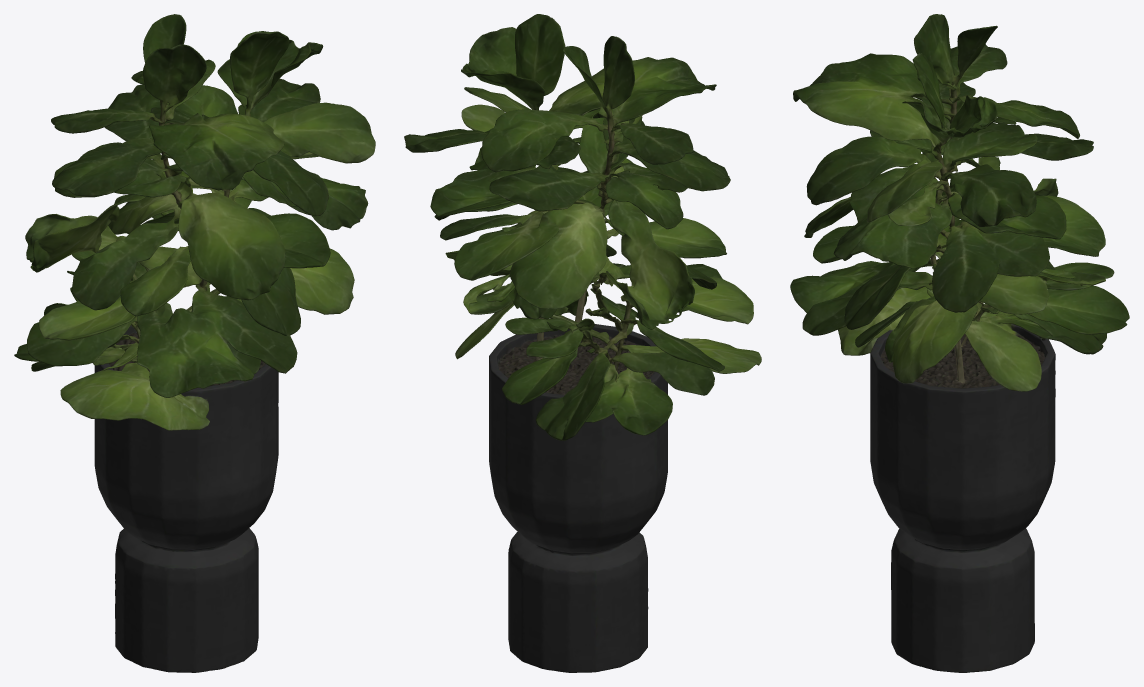
The model's file is Miscellaneous [2AQGRy].glb.
3 renders of one model, left to right at view 1: azimuth 30°, elevation 25°; view 2: azimuth 150°, elevation 25°; view 3: azimuth 270°, elevation 25°, orthographic. The views are drawn at different scales.
Parts seen in each view (by area): view 1: world; view 2: world; view 3: world.
Boxes of the visible parts, x1=… form: world: x1=14, y1=14, x2=375, y2=672; world: x1=404, y1=14, x2=761, y2=672; world: x1=790, y1=14, x2=1129, y2=672.
Size of the model in its own units: 0.5294 by 1 by 0.4992.
1 material, 1 textured.
